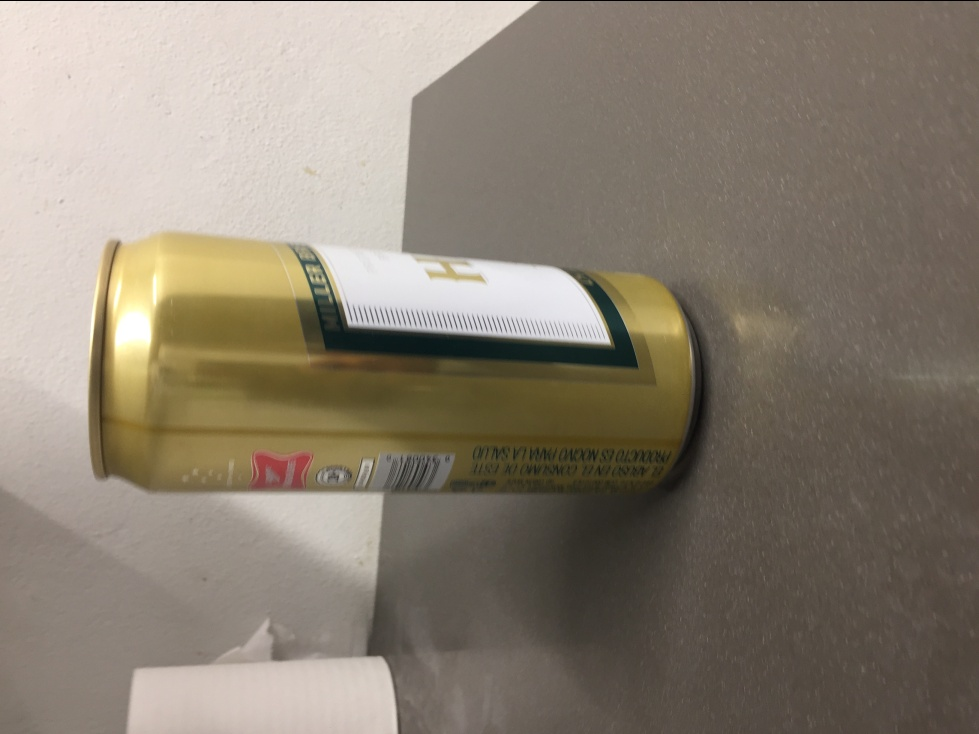miller: (83, 228, 704, 506)
